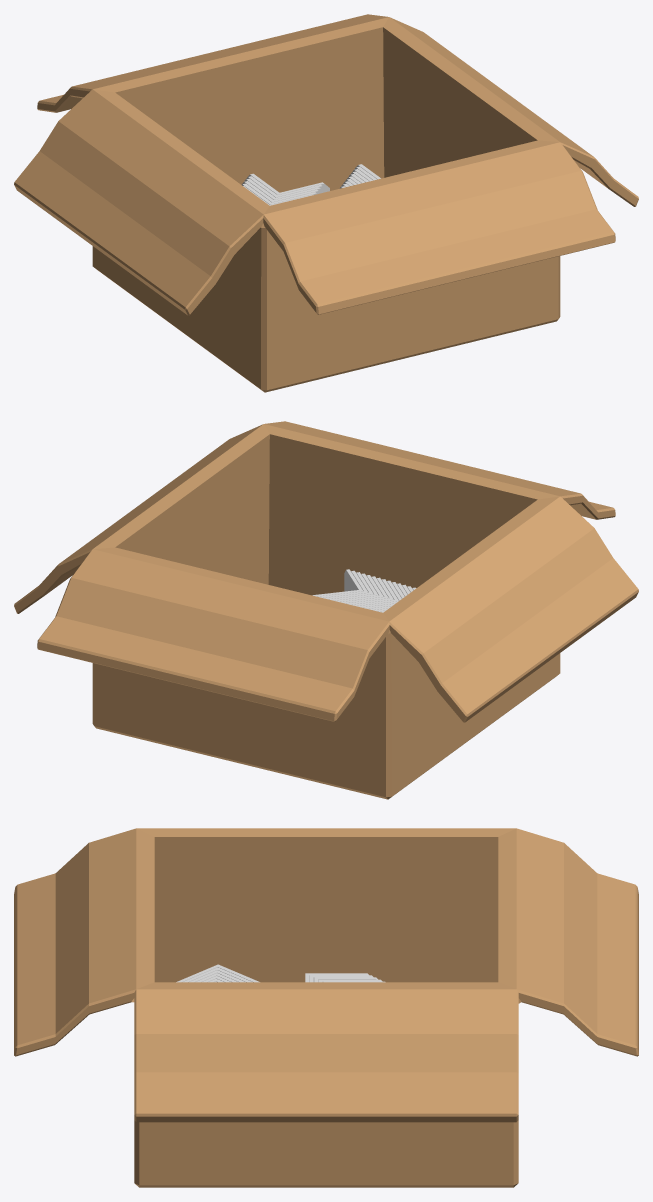
The model's file is Metallbinder_Box.glb.
3 views of the same model, one above another, from view 1: azimuth 30°, elevation 25°; view 2: azimuth 150°, elevation 25°; view 3: azimuth 270°, elevation 25° (orthographic). The views are drawn at different scales.
Parts seen in each view (by area): view 1: Metallbinder_Box; view 2: Metallbinder_Box; view 3: Metallbinder_Box.
Part boxes in pixels (<box>): Metallbinder_Box: <box>14,14,638,392</box>; Metallbinder_Box: <box>14,421,638,799</box>; Metallbinder_Box: <box>14,828,638,1187</box>.
Size of the model in its own units: 0.7089 by 0.2681 by 0.7605.
